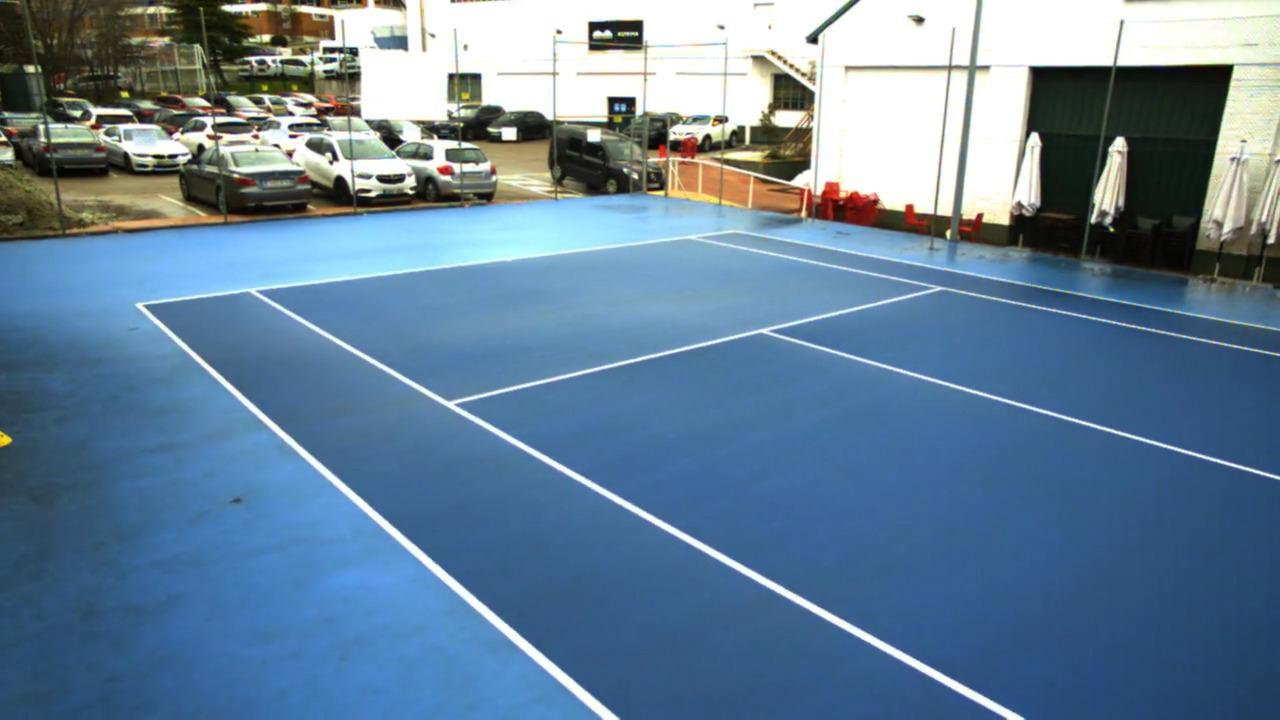cancha_tenis: (250, 233, 1280, 720), (237, 278, 270, 304)
point_f2: (677, 224, 712, 251)
point_fc1: (499, 250, 519, 270)
point_i1: (436, 390, 472, 420)
point_i2: (922, 277, 952, 299)
point_ic1: (748, 319, 786, 346)
